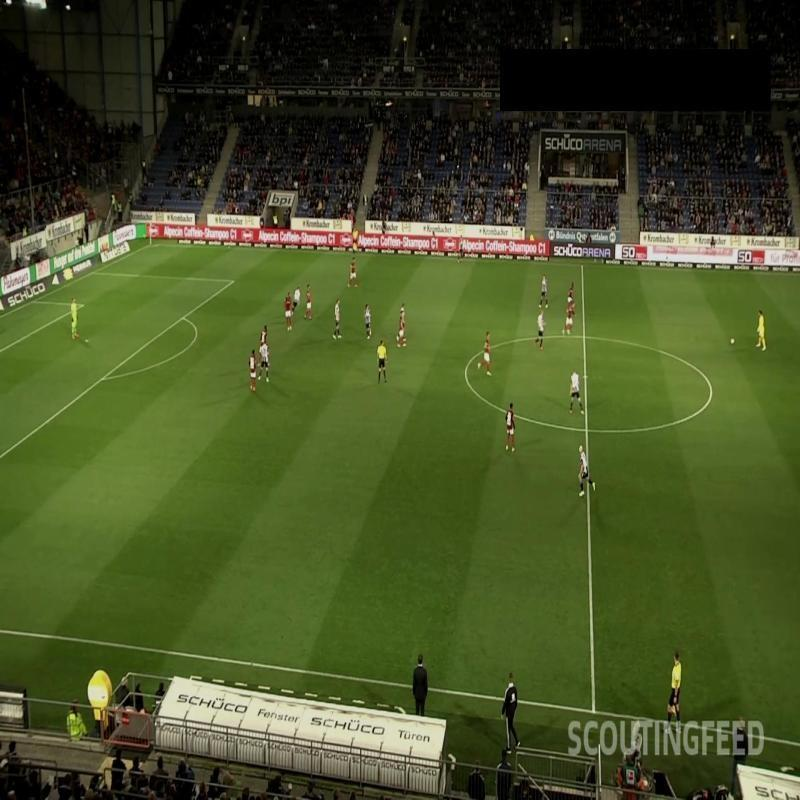1: (144, 238, 158, 252)
10: (174, 308, 194, 328)
11: (94, 370, 111, 388)
13: (575, 258, 589, 272)
14: (576, 328, 592, 345)
15: (580, 422, 594, 436)
16: (586, 701, 604, 723)
2: (86, 265, 101, 279)
3: (23, 291, 42, 310)
7: (78, 299, 92, 312)
9: (224, 272, 242, 290)
c: (457, 362, 474, 382), (704, 384, 718, 397)
